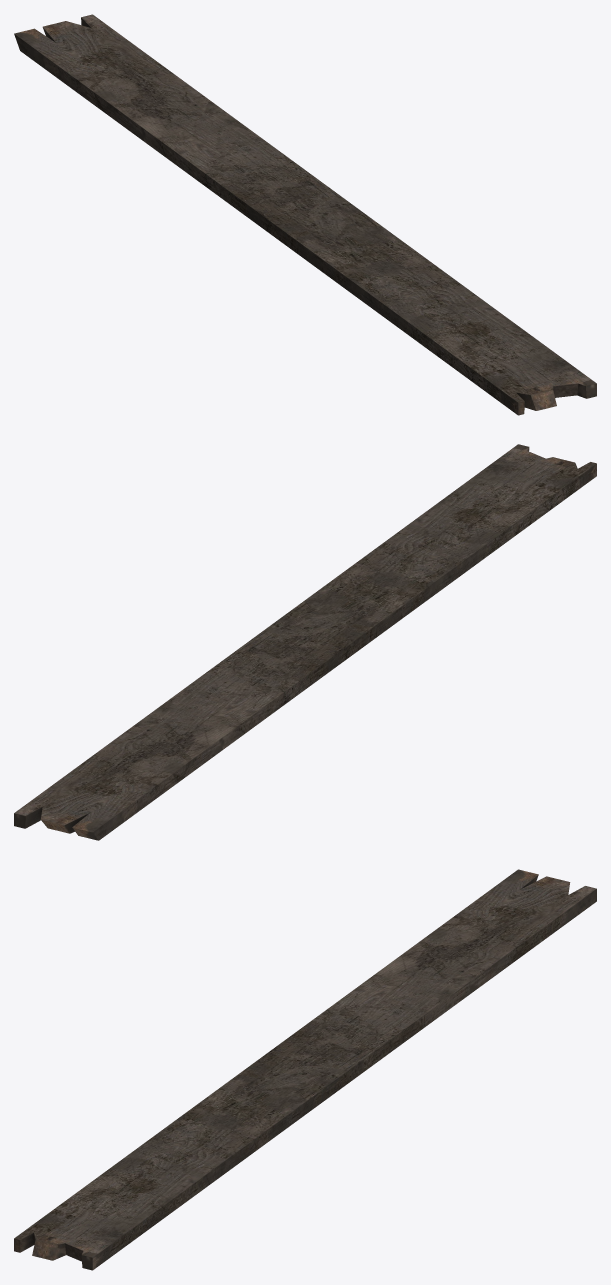
Rendered from SM_WoodBoard_03.glb.
The picture shows the model from 3 angles, top to bottom: view 1: azimuth 30°, elevation 25°; view 2: azimuth 150°, elevation 25°; view 3: azimuth 330°, elevation 25°; orthographic projection.
Visible parts, largest first — view 1: SM_WoodBoard_03; view 2: SM_WoodBoard_03; view 3: SM_WoodBoard_03.
Part boxes in pixels (x1=…): SM_WoodBoard_03: x1=14, y1=14, x2=596, y2=415; SM_WoodBoard_03: x1=14, y1=444, x2=596, y2=840; SM_WoodBoard_03: x1=14, y1=869, x2=596, y2=1270.
Size of the model in its own units: 0.1504 by 0.0234 by 1.67.
1 material, 1 textured.
